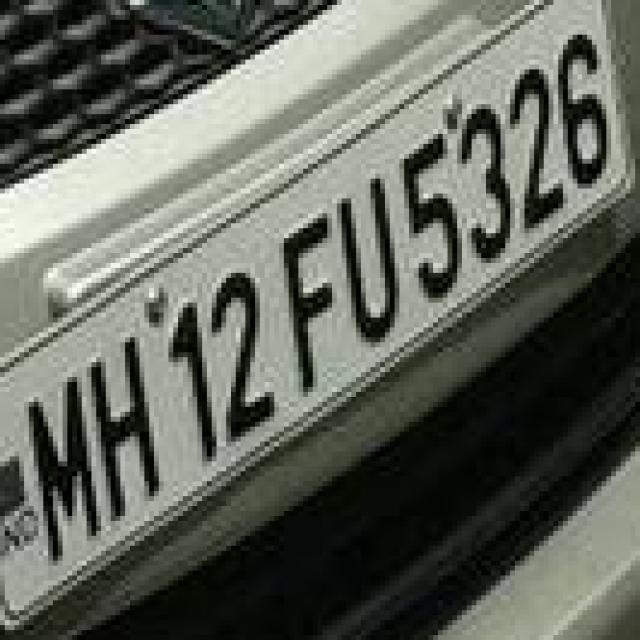license_plate: (33, 119, 640, 531)
